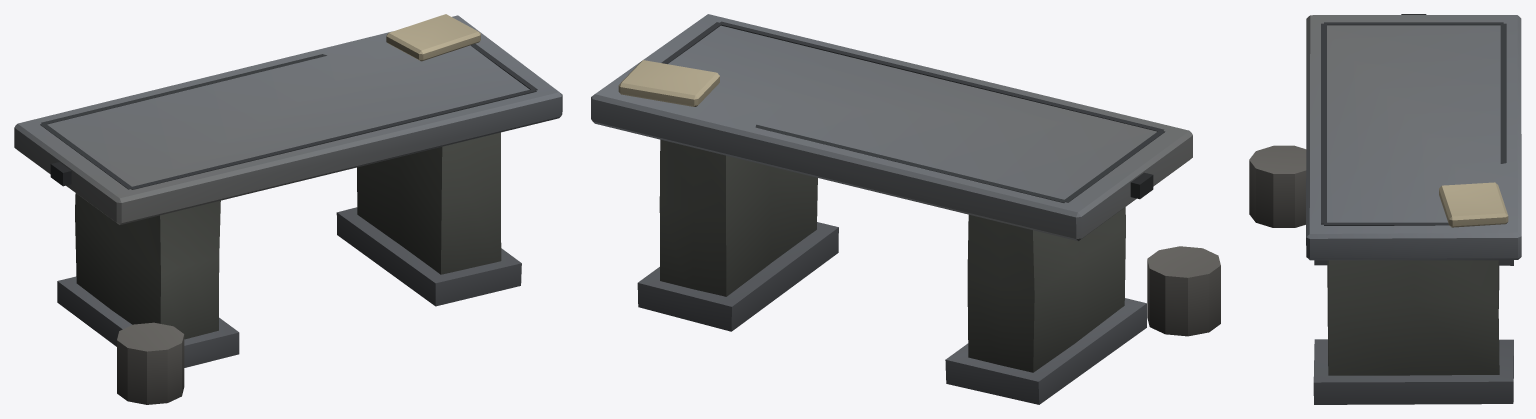
The model's file is ph_int_crypt_table.glb.
3 renders of one model, left to right at view 1: azimuth 30°, elevation 25°; view 2: azimuth 150°, elevation 25°; view 3: azimuth 270°, elevation 25°, orthographic. The views are drawn at different scales.
Parts seen in each view (by area): view 1: ph_int_crypt_table; view 2: ph_int_crypt_table; view 3: ph_int_crypt_table.
Part boxes in pixels (<box>): ph_int_crypt_table: <box>14,14,562,404</box>; ph_int_crypt_table: <box>591,14,1220,404</box>; ph_int_crypt_table: <box>1249,14,1521,404</box>.
Size of the model in its own units: 2.14 by 0.8922 by 1.09.
